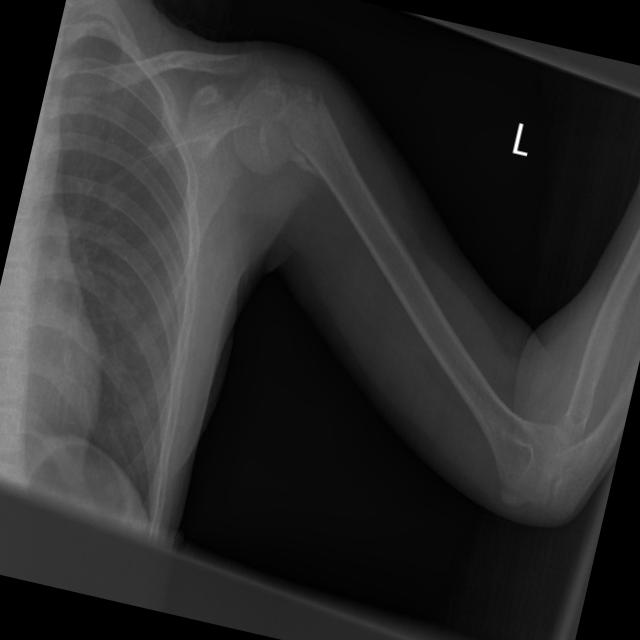humerus fracture: (268, 66, 358, 188)
